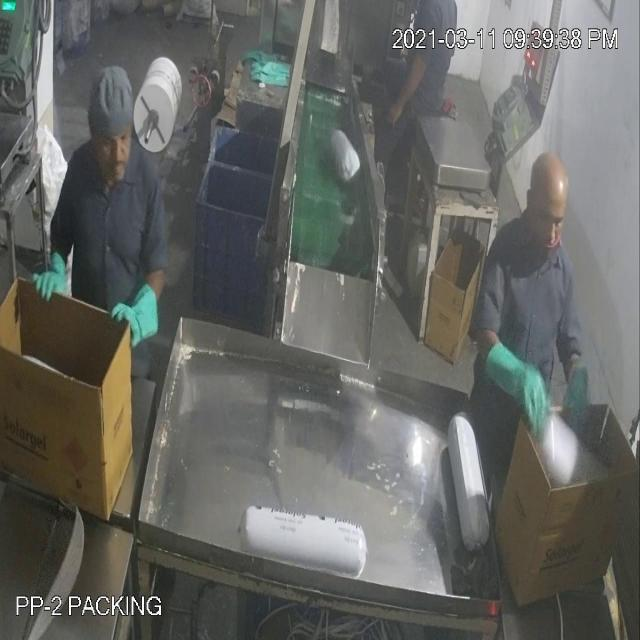No_Gloves: (378, 50, 436, 140)
